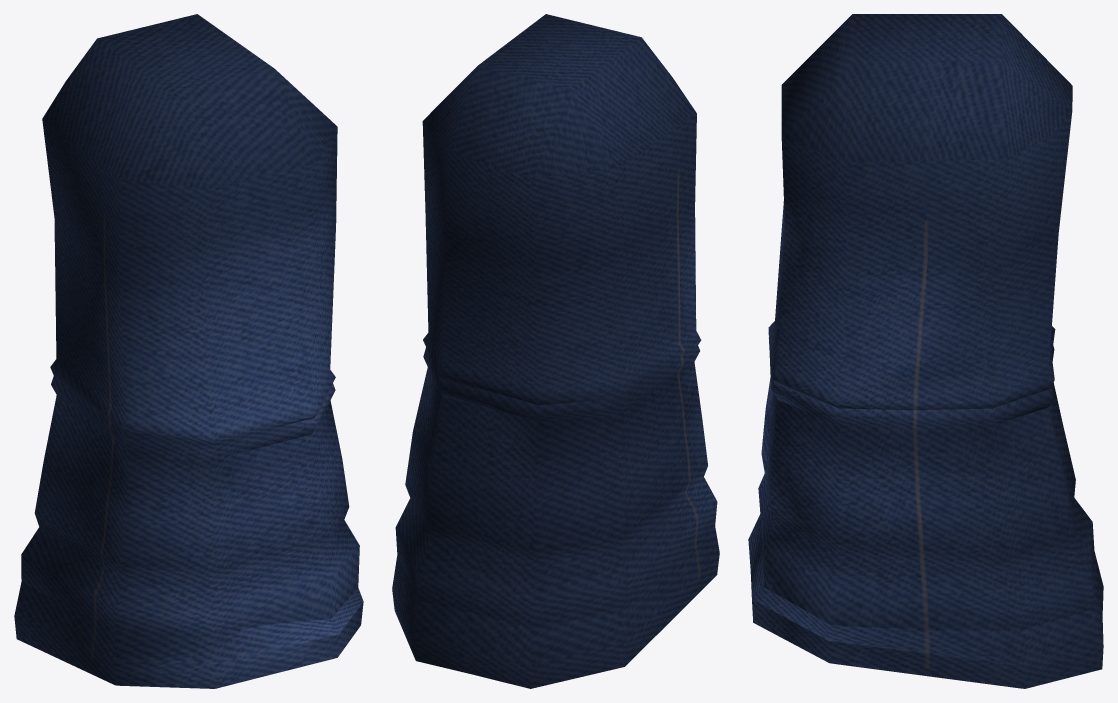
Rendered from leg L.obj.
3 renders of one model, left to right at view 1: azimuth 30°, elevation 25°; view 2: azimuth 150°, elevation 25°; view 3: azimuth 270°, elevation 25°, orthographic. The views are drawn at different scales.
Parts seen in each view (by area): view 1: leg_L; view 2: leg_L; view 3: leg_L.
Part boxes in pixels (x1,y1,x2,y2): leg_L: [14, 14, 363, 688]; leg_L: [392, 14, 719, 688]; leg_L: [748, 14, 1103, 688].
Size of the model in its own units: 0.8553 by 1.97 by 1.06.
